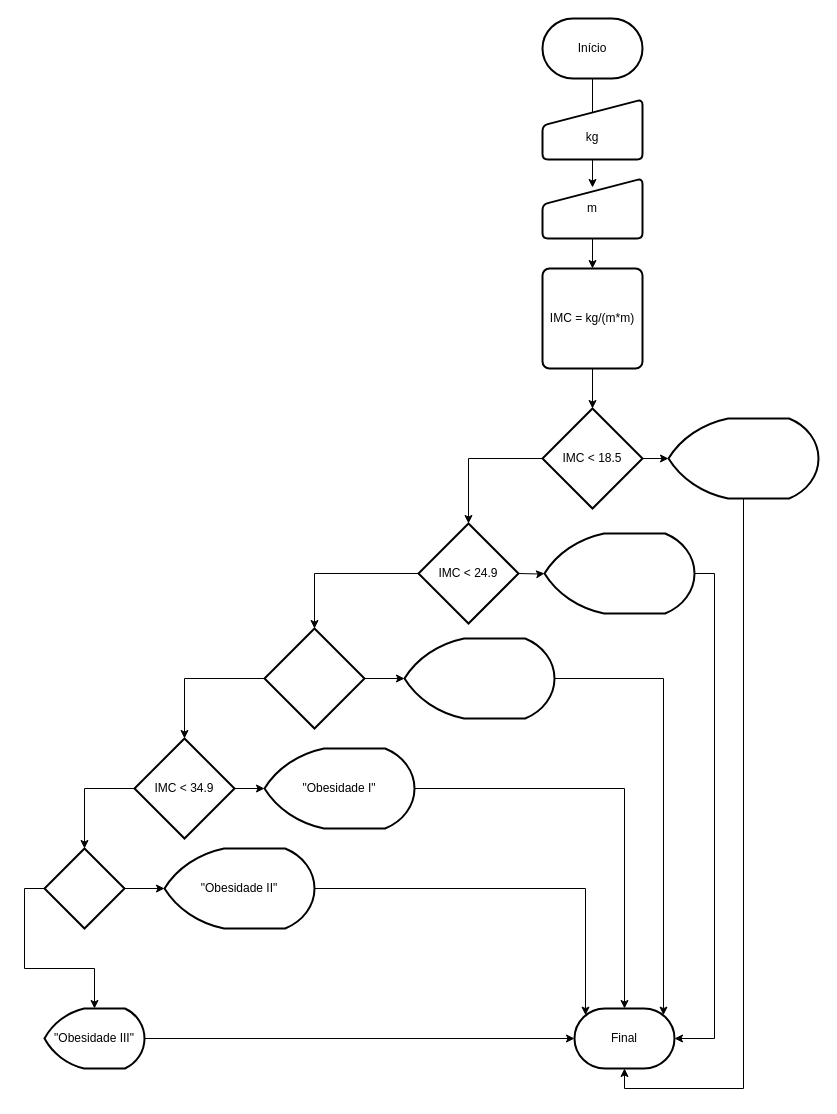
This 837x1114 diagram has some shape labels left out. The centre of each missing label's shape, as x and y in pixels:
"Abaixo do peso normal": (743,458)
"Excesso de peso": (479,678)
"Peso normal": (619,573)
IMC < 29.9: (314,678)
IMC < 39.9: (84,888)
